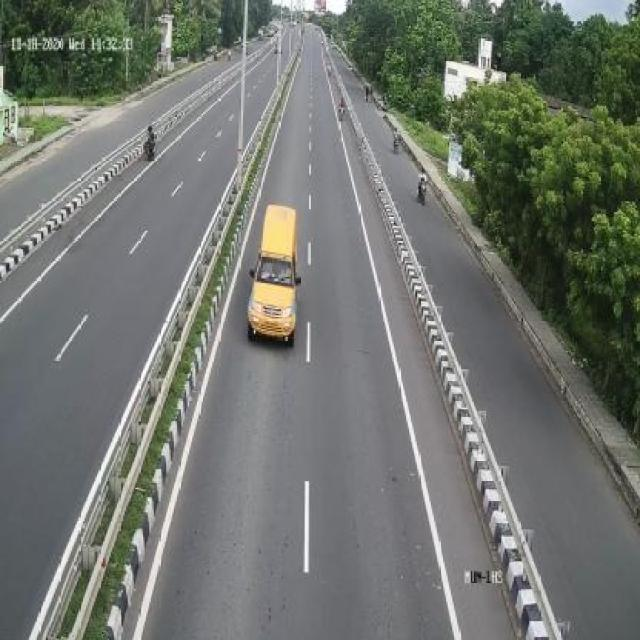car: (250, 197, 304, 348)
